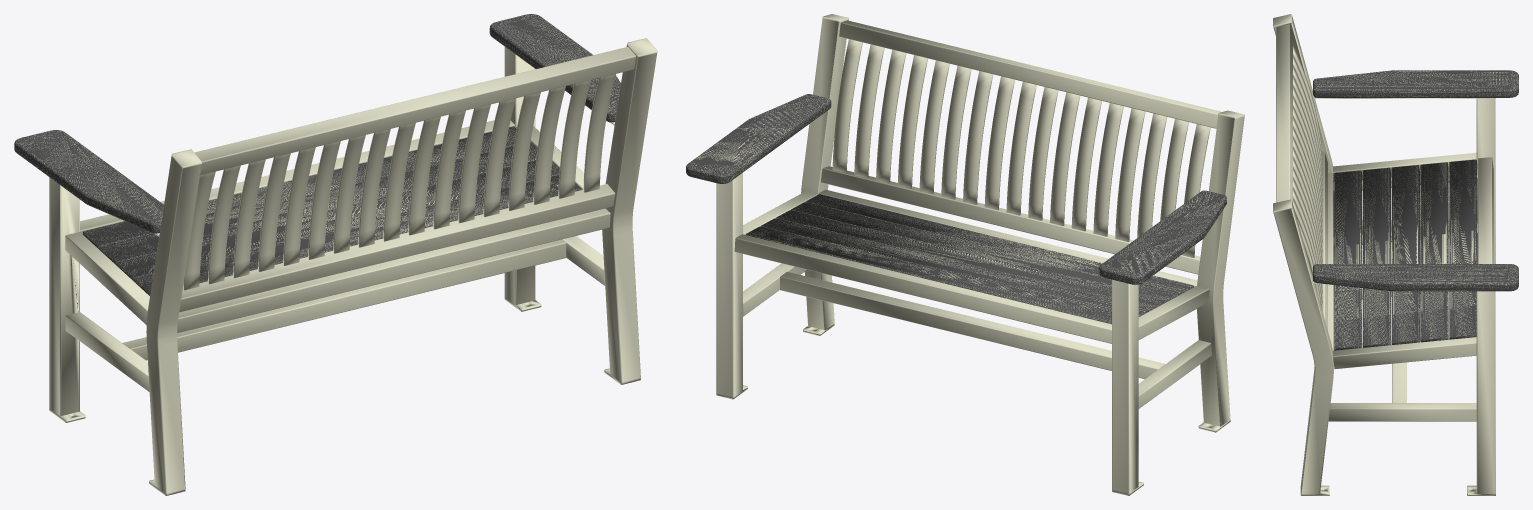
3 renders of one model, left to right at view 1: azimuth 30°, elevation 25°; view 2: azimuth 150°, elevation 25°; view 3: azimuth 270°, elevation 25°, orthographic. The views are drawn at different scales.
Visible parts, largest first — view 1: mesh24_mesh24-geometry, mesh4_mesh4-geometry, mesh27_mesh27-geometry, mesh16_mesh16-geometry, mesh30_mesh30-geometry, mesh23_mesh23-geometry, mesh3_mesh3-geometry, mesh1_mesh1-geometry, mesh2_mesh2-geometry, mesh32_mesh32-geometry, mesh29_mesh29-geometry, mesh37_mesh37-geometry (+21 smaller); view 2: mesh24_mesh24-geometry, mesh31_mesh31-geometry, mesh23_mesh23-geometry, mesh3_mesh3-geometry, mesh4_mesh4-geometry, mesh26_mesh26-geometry, mesh16_mesh16-geometry, mesh27_mesh27-geometry, mesh2_mesh2-geometry, mesh1_mesh1-geometry, mesh29_mesh29-geometry, mesh37_mesh37-geometry (+23 smaller); view 3: mesh26_mesh26-geometry, mesh27_mesh27-geometry, mesh1_mesh1-geometry, mesh2_mesh2-geometry, mesh35_mesh35-geometry, mesh32_mesh32-geometry, mesh37_mesh37-geometry, mesh29_mesh29-geometry, mesh36_mesh36-geometry, mesh4_mesh4-geometry, mesh28_mesh28-geometry, mesh23_mesh23-geometry (+22 smaller).
Boxes of the visible parts, x1,y1,x2,y2 form: mesh24_mesh24-geometry: (146, 149, 201, 495); mesh4_mesh4-geometry: (194, 47, 635, 175); mesh27_mesh27-geometry: (602, 38, 657, 384); mesh16_mesh16-geometry: (179, 184, 615, 312); mesh30_mesh30-geometry: (177, 208, 610, 332); mesh23_mesh23-geometry: (49, 177, 159, 422); mesh3_mesh3-geometry: (122, 239, 566, 360); mesh1_mesh1-geometry: (14, 130, 163, 233); mesh2_mesh2-geometry: (489, 14, 620, 122); mesh32_mesh32-geometry: (100, 142, 537, 265); mesh29_mesh29-geometry: (83, 126, 516, 249); mesh37_mesh37-geometry: (117, 161, 559, 281); mesh24_mesh24-geometry: (1197, 110, 1244, 432); mesh31_mesh31-geometry: (734, 234, 1111, 343); mesh23_mesh23-geometry: (1112, 279, 1211, 495); mesh3_mesh3-geometry: (780, 271, 1165, 378); mesh4_mesh4-geometry: (839, 20, 1221, 128); mesh26_mesh26-geometry: (716, 173, 806, 399); mesh16_mesh16-geometry: (821, 166, 1200, 274); mesh27_mesh27-geometry: (801, 14, 849, 335); mesh2_mesh2-geometry: (686, 94, 831, 183); mesh1_mesh1-geometry: (1099, 190, 1226, 284); mesh29_mesh29-geometry: (745, 226, 1111, 324); mesh37_mesh37-geometry: (775, 210, 1163, 311); mesh26_mesh26-geometry: (1313, 281, 1495, 495); mesh27_mesh27-geometry: (1273, 199, 1333, 495); mesh1_mesh1-geometry: (1313, 70, 1518, 97); mesh2_mesh2-geometry: (1313, 264, 1518, 291); mesh35_mesh35-geometry: (1334, 170, 1362, 350); mesh32_mesh32-geometry: (1420, 162, 1448, 342); mesh37_mesh37-geometry: (1391, 165, 1419, 344); mesh29_mesh29-geometry: (1449, 159, 1477, 339); mesh36_mesh36-geometry: (1363, 167, 1390, 347); mesh4_mesh4-geometry: (1276, 24, 1292, 203); mesh28_mesh28-geometry: (1333, 337, 1476, 369); mesh23_mesh23-geometry: (1313, 95, 1495, 263).
Size of the model in its own units: 0.7827 by 0.4927 by 0.3804.
